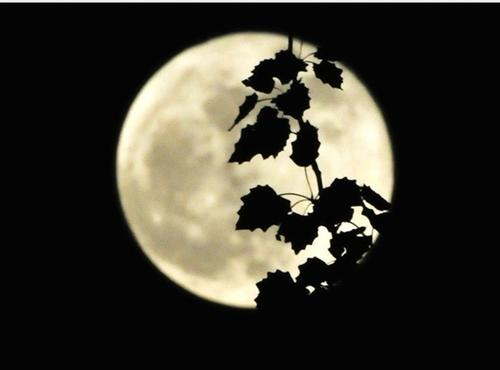moon: (115, 32, 395, 310)
